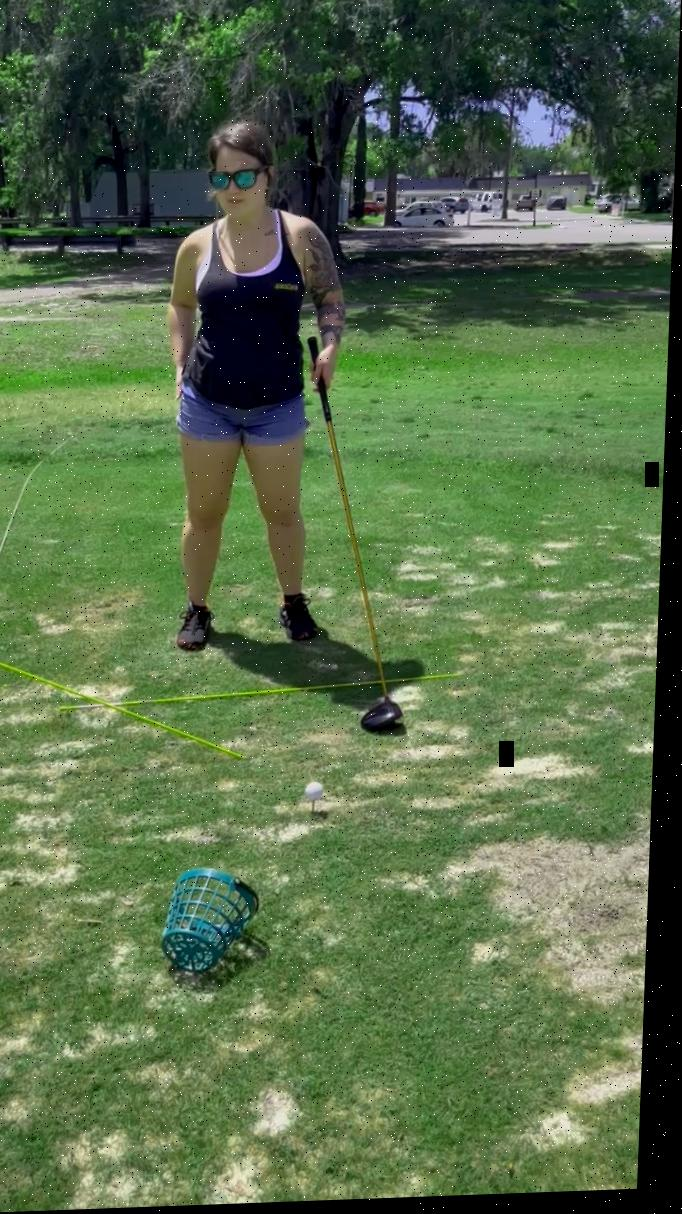ClubHead: (363, 685, 417, 750)
GolfBall: (309, 777, 332, 812)
